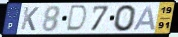7: (91, 5, 112, 32)
8: (41, 5, 62, 33)
A: (132, 5, 157, 31)
D: (65, 4, 89, 33)
K: (19, 6, 40, 32)
O: (113, 4, 138, 33)
